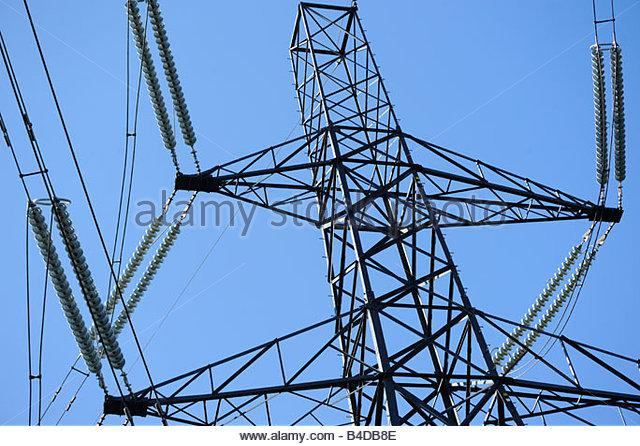isolator: (26, 203, 124, 373), (490, 245, 598, 375), (88, 215, 180, 359), (123, 1, 198, 150), (590, 47, 626, 185)
